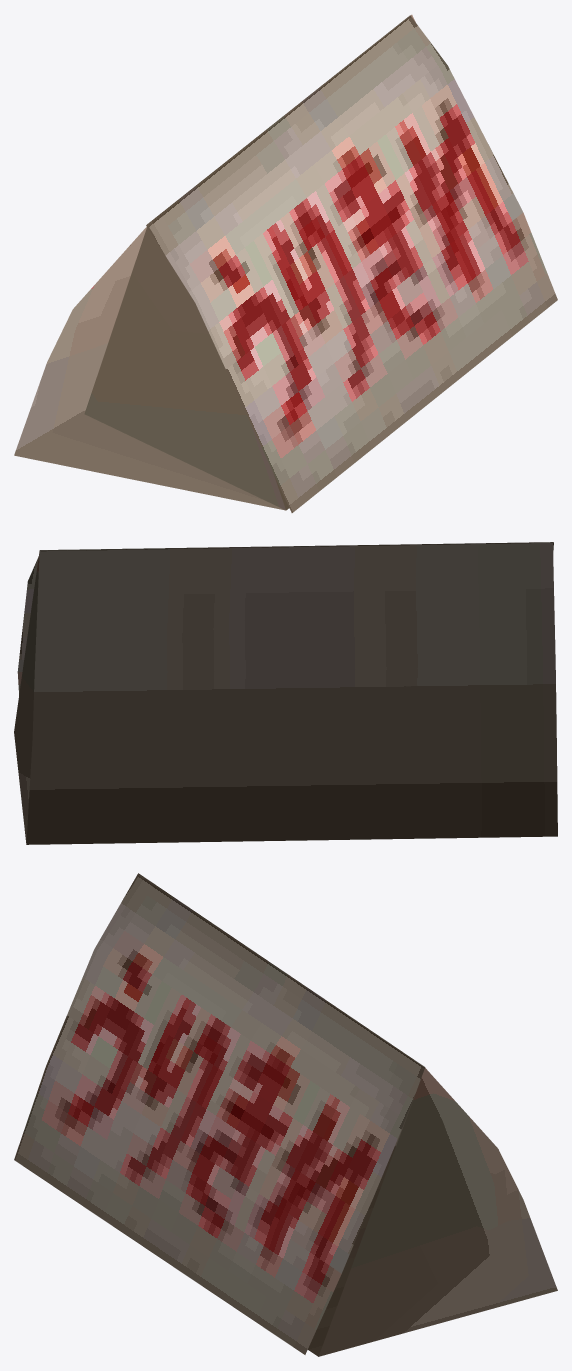
File: fg_soldout.dae
3 views of the same model, one above another, from view 1: azimuth 30°, elevation 25°; view 2: azimuth 150°, elevation 25°; view 3: azimuth 270°, elevation 25° (orthographic). The views are drawn at different scales.
Parts seen in each view (by area): view 1: fg_soldout; view 2: fg_soldout; view 3: fg_soldout.
Part boxes in pixels (left/top/right/bottom): fg_soldout: left=14, top=14, right=557, bottom=512; fg_soldout: left=14, top=542, right=557, bottom=844; fg_soldout: left=14, top=873, right=557, bottom=1356.
Bounding box in the file's own units: 21.49 × 9.47 × 18.63.
Materials: 1 (1 with a texture image).
